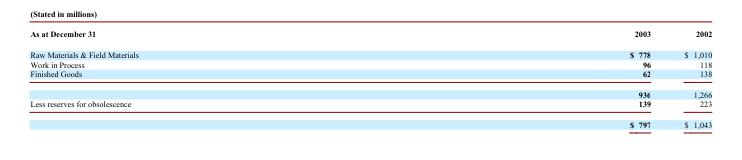table: (29, 29, 711, 128)
table column: (29, 29, 383, 128), (383, 29, 666, 128), (666, 29, 711, 128)
table column header: (29, 29, 711, 44)
table row: (29, 29, 711, 44), (29, 44, 711, 59), (29, 68, 711, 83), (29, 83, 711, 98), (29, 98, 711, 113), (29, 113, 711, 128), (29, 59, 711, 68)
